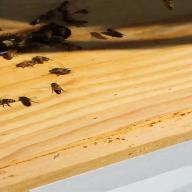Bee: (40, 80, 73, 96), (44, 67, 78, 77), (12, 60, 44, 70), (0, 95, 22, 108), (1, 50, 22, 62)
